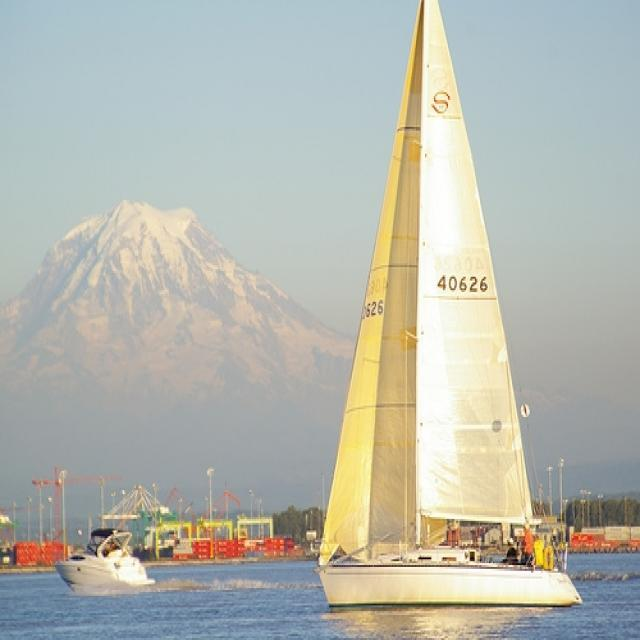Ship: (315, 10, 591, 610)
